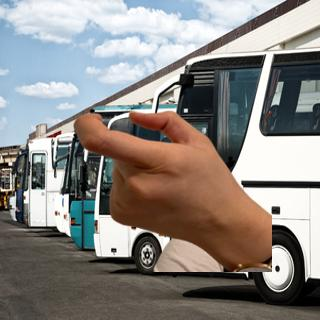HATE: (68, 103, 240, 239)
